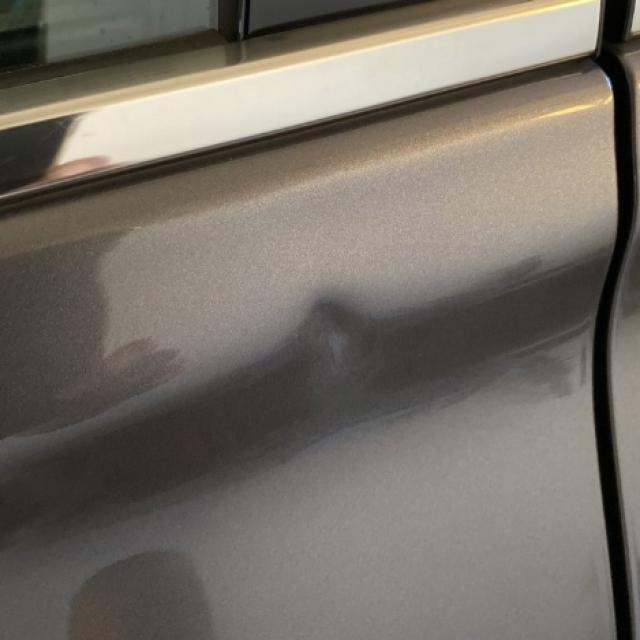dents: (296, 288, 401, 416)
